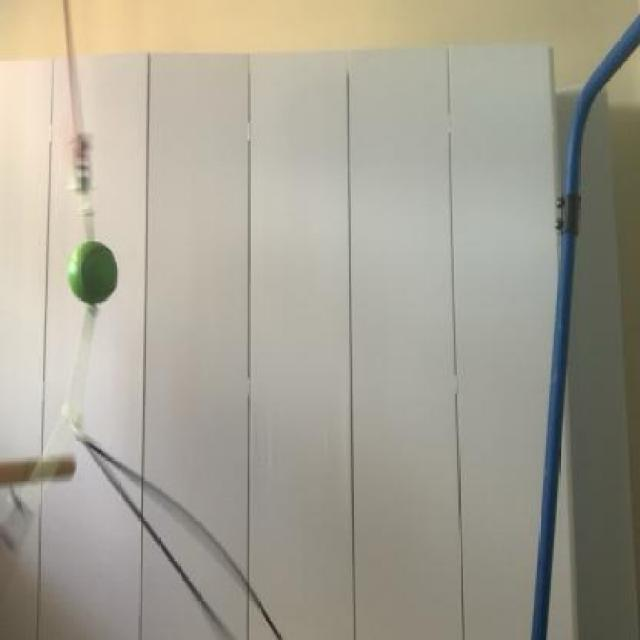baseball: (61, 232, 128, 308)
